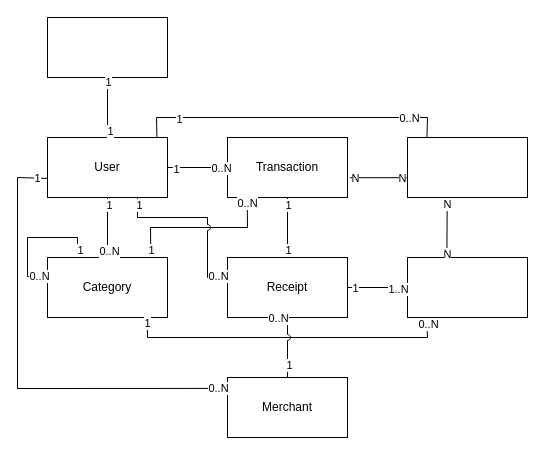
Some shapes in this 545 by 455 pixel diagram are drawn without their labels. Here are the shapes that lost their labels. From the top down, the box of each, then its label:
(46, 16, 168, 78): Account
(406, 136, 528, 198): Tag
(406, 256, 528, 318): Receipt Line Item
